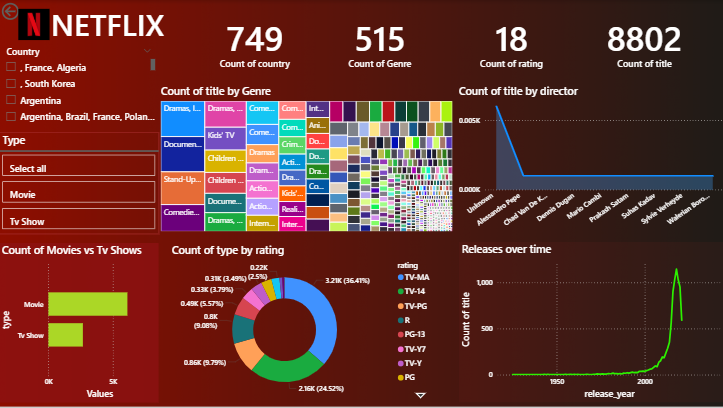

What the dashboard file says about the page in this screenshot:
{"tool":"powerbi","page":{"name":"Page 1","canvas":[1280,720],"ordinal":0},"visuals":[{"type":"barChart","title":"Count of Movies vs Tv Shows","fields":{"Category":["netflix_titles.type"],"Y":["CountNonNull(netflix_titles.listed_in)"]},"box":[0,428.3,280.5,280.5],"z":0},{"type":"lineChart","title":"Releases over time","fields":{"Category":["netflix_titles.release_year"],"Y":["CountNonNull(netflix_titles.title)"]},"box":[809.9,426.1,470.1,281.7],"z":2000},{"type":"donutChart","fields":{"Category":["netflix_titles.rating"],"Y":["CountNonNull(netflix_titles.type)"]},"box":[299,428.3,487.1,280.5],"z":3000},{"type":"treemap","title":"Count of title by Genre","fields":{"Values":["CountNonNull(netflix_titles.title)"],"Group":["netflix_titles.listed_in"]},"box":[280.7,148.4,523.1,264.5],"z":4000},{"type":"actionButton","box":[0,0,100,40],"z":5000},{"type":"advancedSlicerVisual","title":"Type","fields":{"Values":["netflix_titles.type"]},"box":[0,232.4,281.7,179.6],"z":6000},{"type":"card","fields":{"Values":["Count(netflix_titles.title)"]},"box":[993,0,287,147.9],"z":6001},{"type":"textbox","box":[86.7,0,257.1,91.1],"z":6002},{"type":"slicer","fields":{"Values":["netflix_titles.country"]},"box":[0,75.7,279.9,144.4],"z":6003},{"type":"card","fields":{"Values":["Count(netflix_titles.rating)"]},"box":[769.4,0,265.9,147.9],"z":6004},{"type":"card","title":"Count of Genre","fields":{"Values":["Count(netflix_titles.listed_in)"]},"box":[554,0,232.2,148.4],"z":6005},{"type":"card","fields":{"Values":["Count(netflix_titles.country)"]},"box":[346.8,0,207.2,148.4],"z":6006},{"type":"image","box":[0,10.3,123.4,64.7],"z":6007},{"type":"areaChart","fields":{"Category":["netflix_titles.director"],"Y":["CountNonNull(netflix_titles.title)"]},"box":[803.8,148.4,476.1,263],"z":6008}]}

Visuals, with their boxes in screenshot pixels (x1, y1, x2, y2), scaled from the page's 1280x720 canvas onto the 723x408 screenshot:
"Count of Movies vs Tv Shows" barChart: [left=0, top=243, right=158, bottom=402]
"Releases over time" lineChart: [left=457, top=241, right=722, bottom=401]
donutChart - netflix_titles.rating x CountNonNull(netflix_titles.type): [left=169, top=243, right=444, bottom=402]
"Count of title by Genre" treemap: [left=159, top=84, right=454, bottom=234]
actionButton: [left=0, top=0, right=56, bottom=23]
"Type" advancedSlicerVisual: [left=0, top=132, right=159, bottom=233]
card - Count(netflix_titles.title): [left=561, top=0, right=722, bottom=84]
textbox: [left=49, top=0, right=194, bottom=52]
slicer - netflix_titles.country: [left=0, top=43, right=158, bottom=125]
card - Count(netflix_titles.rating): [left=435, top=0, right=585, bottom=84]
"Count of Genre" card: [left=313, top=0, right=444, bottom=84]
card - Count(netflix_titles.country): [left=196, top=0, right=313, bottom=84]
image: [left=0, top=6, right=70, bottom=42]
areaChart - netflix_titles.director x CountNonNull(netflix_titles.title): [left=454, top=84, right=722, bottom=233]
